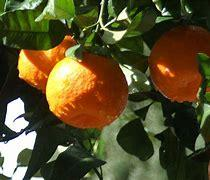orange: (37, 38, 122, 121), (145, 19, 210, 105), (4, 29, 79, 80)
